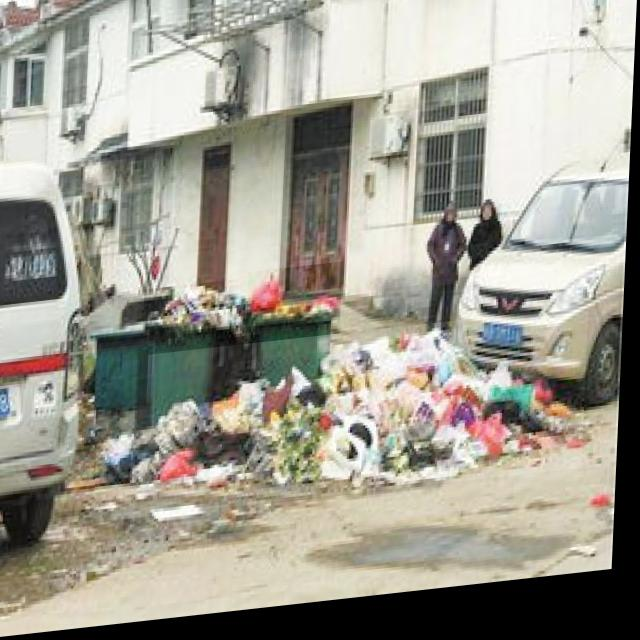garbage: (98, 321, 592, 525)
garbage_bin: (87, 325, 153, 414)
overflow: (143, 285, 241, 426), (248, 270, 345, 394)
